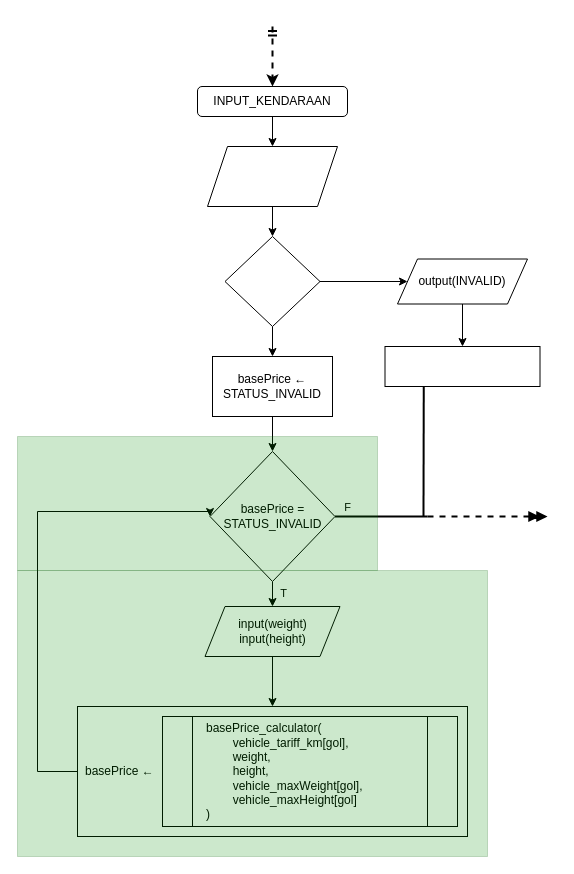
The diagram is 574 pixels wide and 874 high, and some of its shapes have lost their labels. The centre of each missing label's shape, as x and y in pixels:
gol > 5 or gol < 0: the point at 272,281
input(reg_num) input(gol - 1): the point at 272,176
panggilPetugas ← True: the point at 462,366
